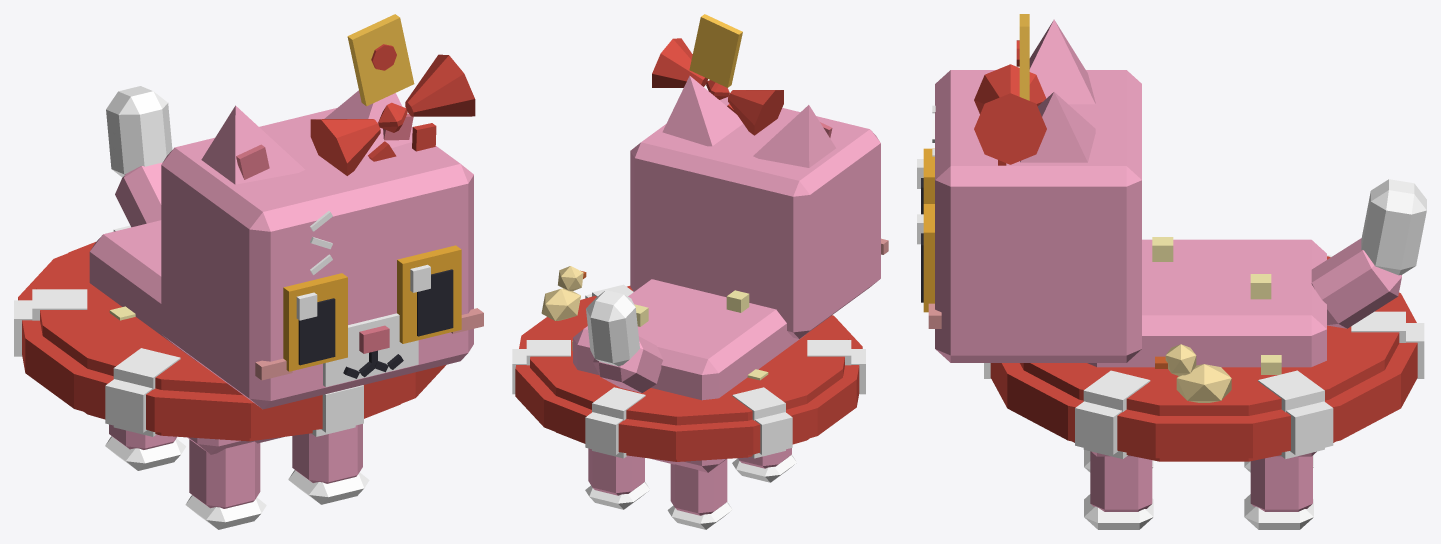
The model's file is CatCafe_Cat_BoothPlush.glb.
The picture shows the model from 3 angles, left to right: view 1: azimuth 30°, elevation 25°; view 2: azimuth 150°, elevation 25°; view 3: azimuth 270°, elevation 25°; orthographic projection. The views are drawn at different scales.
Visible parts, largest first — view 1: CatCafe_Cat_BoothPlush_Head, CatCafe_Cat_BoothPlush_Prop2, CatCafe_Cat_BoothPlush_Prop, CatCafe_Cat_BoothPlush_Tail, CatCafe_Cat_BoothPlush_Body, CatCafe_Cat_BoothPlush_Eye2, CatCafe_Cat_BoothPlush_Eye1, CatCafe_Cat_BoothPlush_LegF2, CatCafe_Cat_BoothPlush_LegF1, CatCafe_Cat_BoothPlush_EarR, CatCafe_Cat_BoothPlush_Tag_Glow, CatCafe_Cat_BoothPlush_LegB2 (+1 smaller); view 2: CatCafe_Cat_BoothPlush_Head, CatCafe_Cat_BoothPlush_Prop2, CatCafe_Cat_BoothPlush_Body, CatCafe_Cat_BoothPlush_Tail, CatCafe_Cat_BoothPlush_Prop, CatCafe_Cat_BoothPlush_LegB2, CatCafe_Cat_BoothPlush_EarL, CatCafe_Cat_BoothPlush_LegB1, CatCafe_Cat_BoothPlush_EarR, CatCafe_Cat_BoothPlush_Tag_Glow, CatCafe_Cat_BoothPlush_LegF2; view 3: CatCafe_Cat_BoothPlush_Head, CatCafe_Cat_BoothPlush_Prop2, CatCafe_Cat_BoothPlush_Body, CatCafe_Cat_BoothPlush_Tail, CatCafe_Cat_BoothPlush_Prop, CatCafe_Cat_BoothPlush_LegF1, CatCafe_Cat_BoothPlush_LegB1, CatCafe_Cat_BoothPlush_EarR, CatCafe_Cat_BoothPlush_EarL, CatCafe_Cat_BoothPlush_Eye1, CatCafe_Cat_BoothPlush_Tag_Glow, CatCafe_Cat_BoothPlush_Eye2.
Part boxes in pixels (x1,y1,x2,y2): CatCafe_Cat_BoothPlush_Head: (161,108,483,409); CatCafe_Cat_BoothPlush_Prop2: (14,225,446,441); CatCafe_Cat_BoothPlush_Prop: (310,44,475,274); CatCafe_Cat_BoothPlush_Tail: (106,86,172,227); CatCafe_Cat_BoothPlush_Body: (89,220,283,454); CatCafe_Cat_BoothPlush_Eye2: (283,273,347,371); CatCafe_Cat_BoothPlush_Eye1: (397,245,461,343); CatCafe_Cat_BoothPlush_LegF2: (185,439,266,529); CatCafe_Cat_BoothPlush_LegF1: (288,424,369,504); CatCafe_Cat_BoothPlush_EarR: (201,105,305,184); CatCafe_Cat_BoothPlush_Tag_Glow: (347,14,414,106); CatCafe_Cat_BoothPlush_LegB2: (105,424,185,470); CatCafe_Cat_BoothPlush_Head: (630,97,888,338); CatCafe_Cat_BoothPlush_Prop2: (512,266,865,461); CatCafe_Cat_BoothPlush_Body: (572,279,804,472); CatCafe_Cat_BoothPlush_Tail: (586,290,662,392); CatCafe_Cat_BoothPlush_Prop: (652,38,831,135); CatCafe_Cat_BoothPlush_LegB2: (667,459,732,529); CatCafe_Cat_BoothPlush_EarL: (662,76,743,146); CatCafe_Cat_BoothPlush_LegB1: (585,448,649,509); CatCafe_Cat_BoothPlush_EarR: (753,105,835,167); CatCafe_Cat_BoothPlush_Tag_Glow: (689,14,742,87); CatCafe_Cat_BoothPlush_LegF2: (732,448,796,482); CatCafe_Cat_BoothPlush_Head: (928,70,1141,362); CatCafe_Cat_BoothPlush_Prop2: (984,254,1424,461); CatCafe_Cat_BoothPlush_Body: (1087,237,1326,456); CatCafe_Cat_BoothPlush_Tail: (1311,179,1426,328); CatCafe_Cat_BoothPlush_Prop: (932,40,1046,165); CatCafe_Cat_BoothPlush_LegF1: (1084,451,1153,529); CatCafe_Cat_BoothPlush_LegB1: (1244,455,1313,529); CatCafe_Cat_BoothPlush_EarR: (1029,19,1095,104); CatCafe_Cat_BoothPlush_EarL: (1020,92,1095,162); CatCafe_Cat_BoothPlush_Eye1: (917,204,934,312); CatCafe_Cat_BoothPlush_Tag_Glow: (1019,14,1029,100); CatCafe_Cat_BoothPlush_Eye2: (917,148,934,214).
Size of the model in its own units: 1.65 by 2.15 by 1.97.
1 material, 1 textured.
